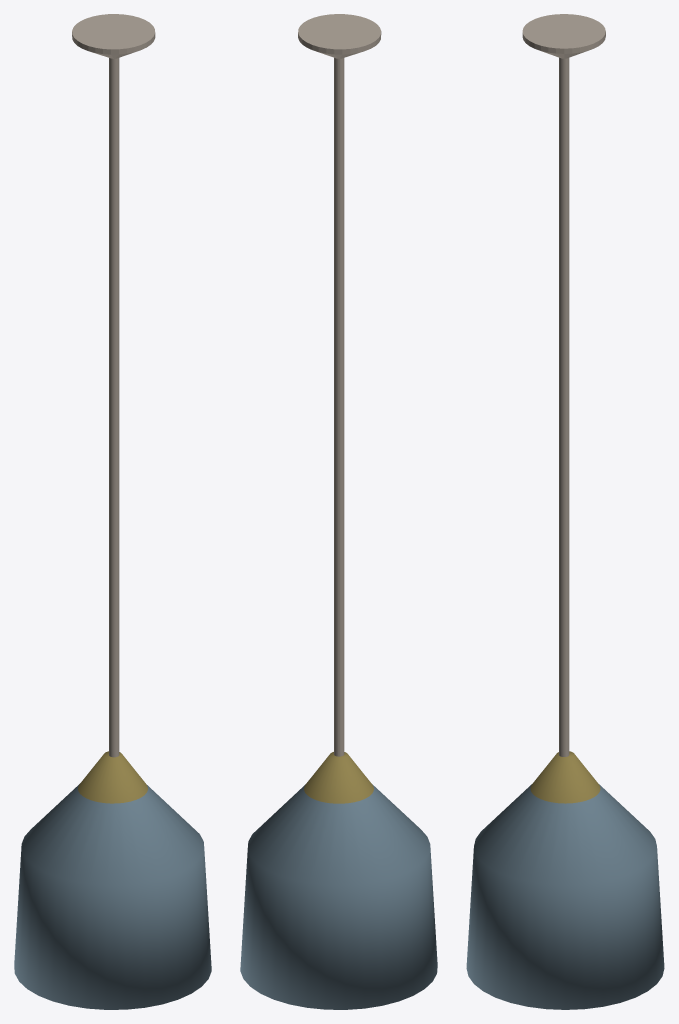
File: ceiling_lamp2.fbx
3 views of the same model, side by side, from view 1: azimuth 30°, elevation 25°; view 2: azimuth 150°, elevation 25°; view 3: azimuth 270°, elevation 25° (orthographic).
Parts seen in each view (by area): view 1: valaisin, johto, kattokuppi; view 2: valaisin, johto, kattokuppi; view 3: valaisin, johto, kattokuppi.
Part boxes in pixels (box(x1,y1,x2,y2)): valaisin: box(14, 751, 211, 1009); johto: box(109, 58, 119, 757); kattokuppi: box(72, 14, 155, 58); valaisin: box(240, 752, 437, 1009); johto: box(334, 58, 344, 756); kattokuppi: box(298, 14, 381, 58); valaisin: box(466, 751, 664, 1009); johto: box(559, 57, 569, 756); kattokuppi: box(522, 14, 605, 58).
Bounding box in the file's own units: 20.61 × 108 × 20.61.
